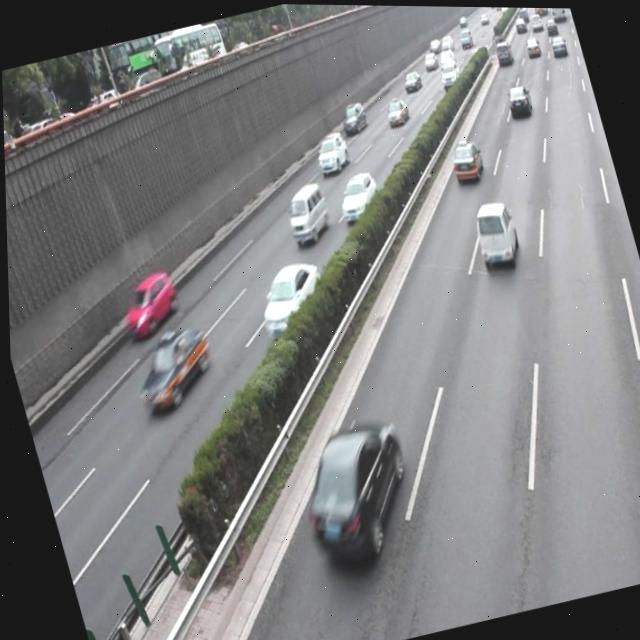car: (282, 411, 424, 571), (121, 319, 220, 416), (245, 254, 330, 340), (113, 268, 182, 340), (330, 166, 382, 223), (308, 128, 351, 177), (444, 136, 485, 186), (634, 279, 640, 377)
truck: (466, 195, 522, 268), (278, 179, 333, 248)
